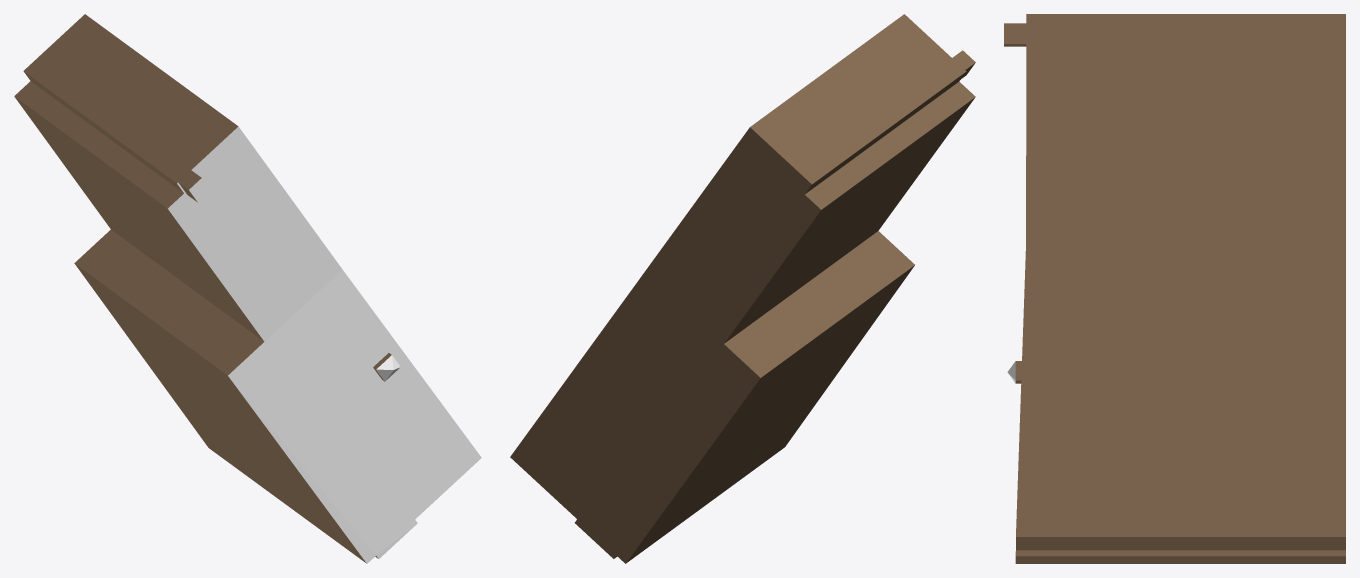
3 views of the same model, side by side, from view 1: azimuth 30°, elevation 25°; view 2: azimuth 150°, elevation 25°; view 3: azimuth 270°, elevation 25° (orthographic). The views are drawn at different scales.
Parts seen in each view (by area): view 1: City_PC-01213; view 2: City_PC-01213; view 3: City_PC-01213.
Boxes of the visible parts, x1=… form: City_PC-01213: x1=14, y1=14, x2=481, y2=563; City_PC-01213: x1=510, y1=14, x2=975, y2=563; City_PC-01213: x1=1004, y1=14, x2=1345, y2=563.
Bounding box in the file's own units: 1686 × 2419 × 1551.
